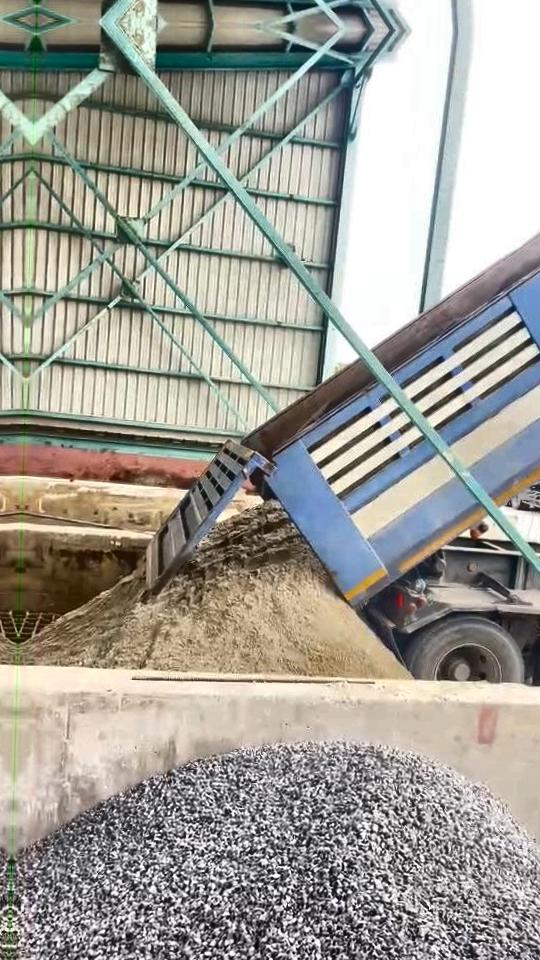gravel: (12, 744, 540, 960)
sand: (22, 501, 410, 677)
